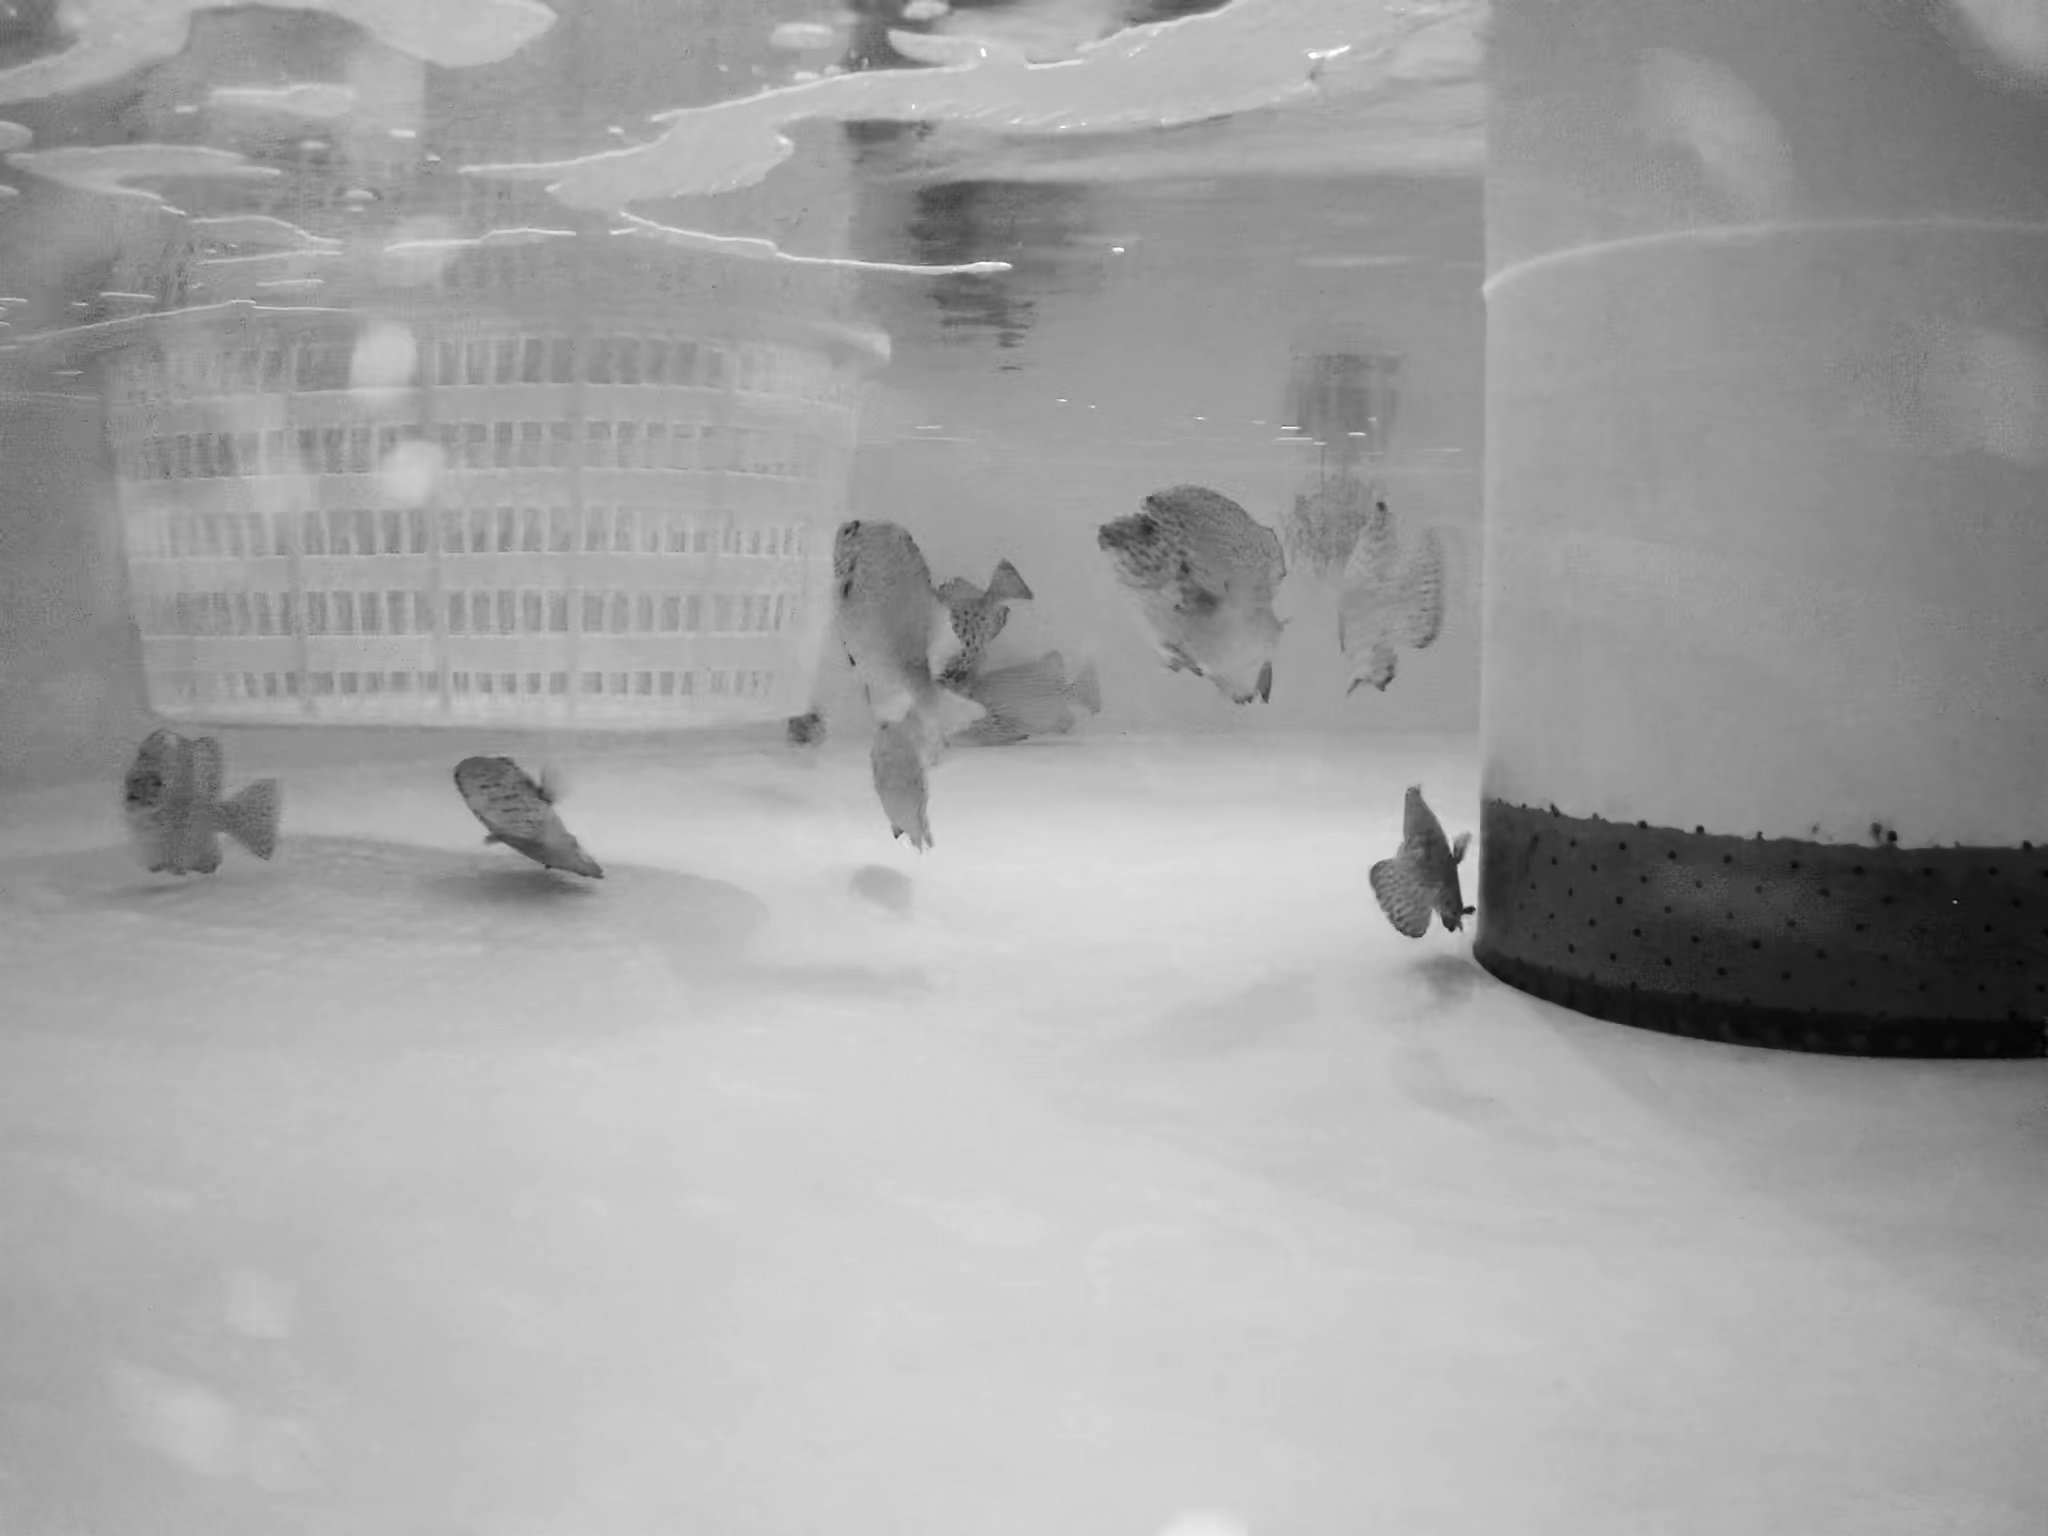fish: (1093, 474, 1293, 720), (840, 523, 932, 837), (121, 733, 292, 886), (448, 741, 616, 889), (1332, 492, 1456, 679), (1359, 784, 1479, 936), (900, 563, 1035, 676), (958, 660, 1100, 749), (766, 644, 839, 774)
